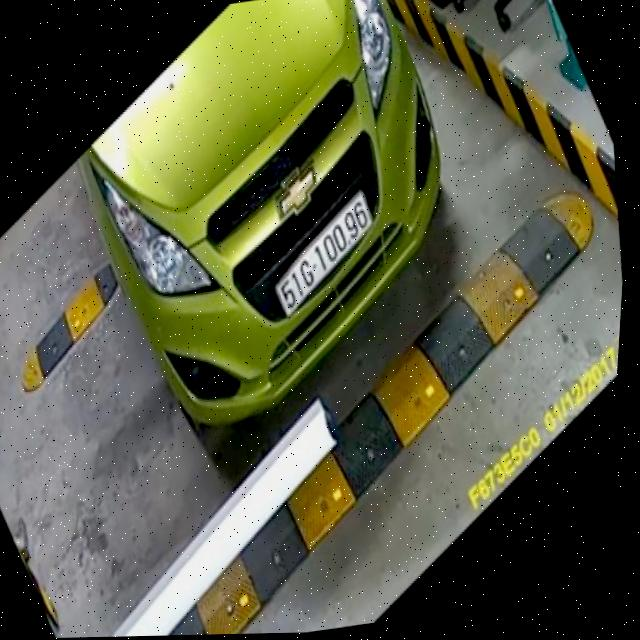car: (38, 0, 486, 452)
plate: (261, 189, 385, 319)
